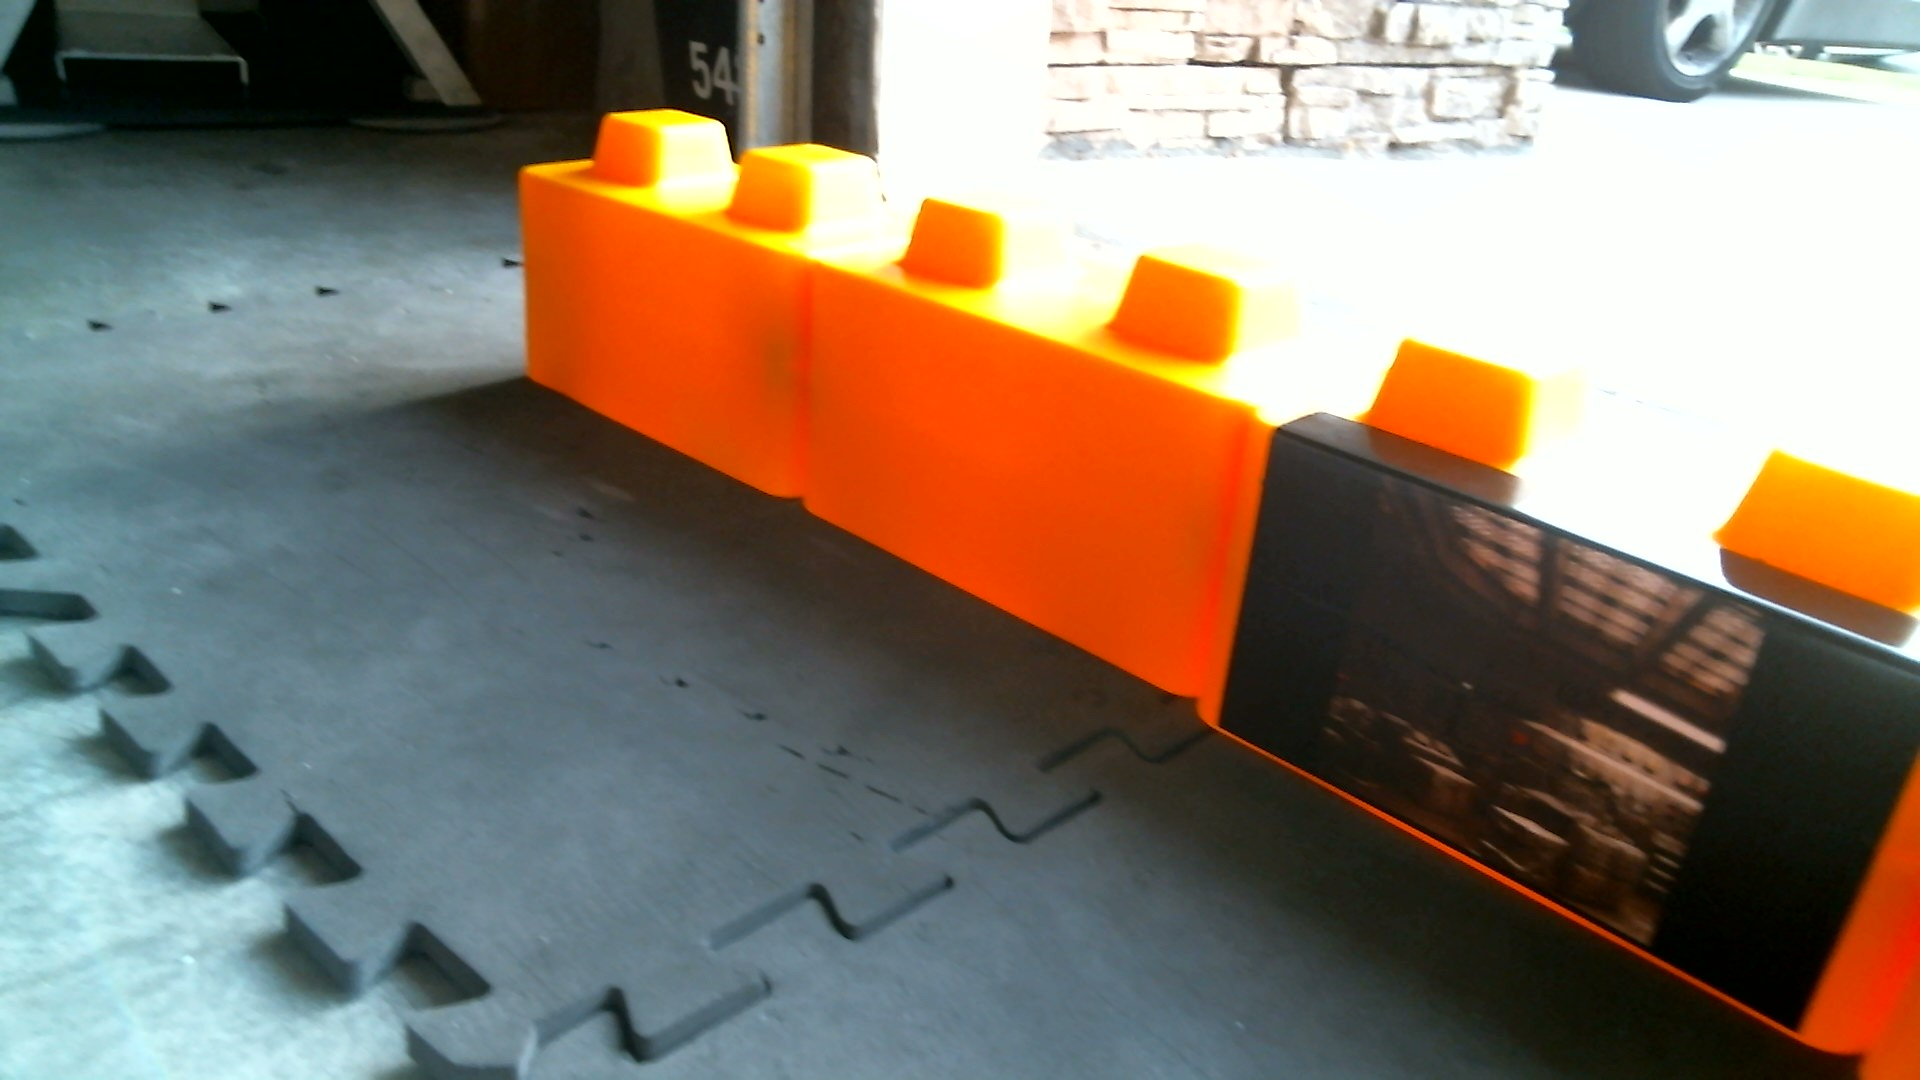right: (495, 90, 1917, 1058)
